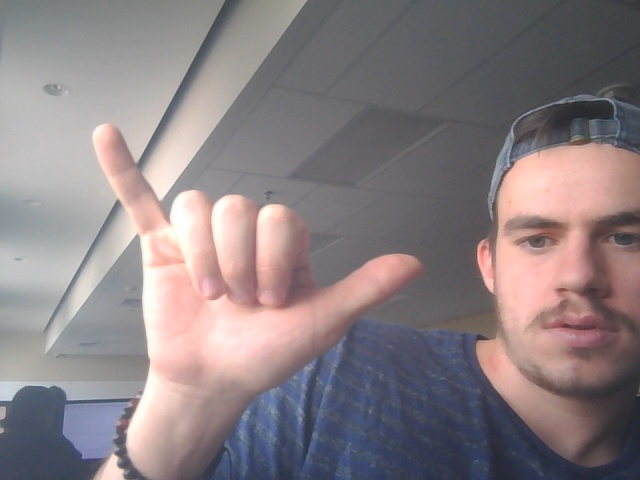birdsup: (79, 106, 432, 399)
